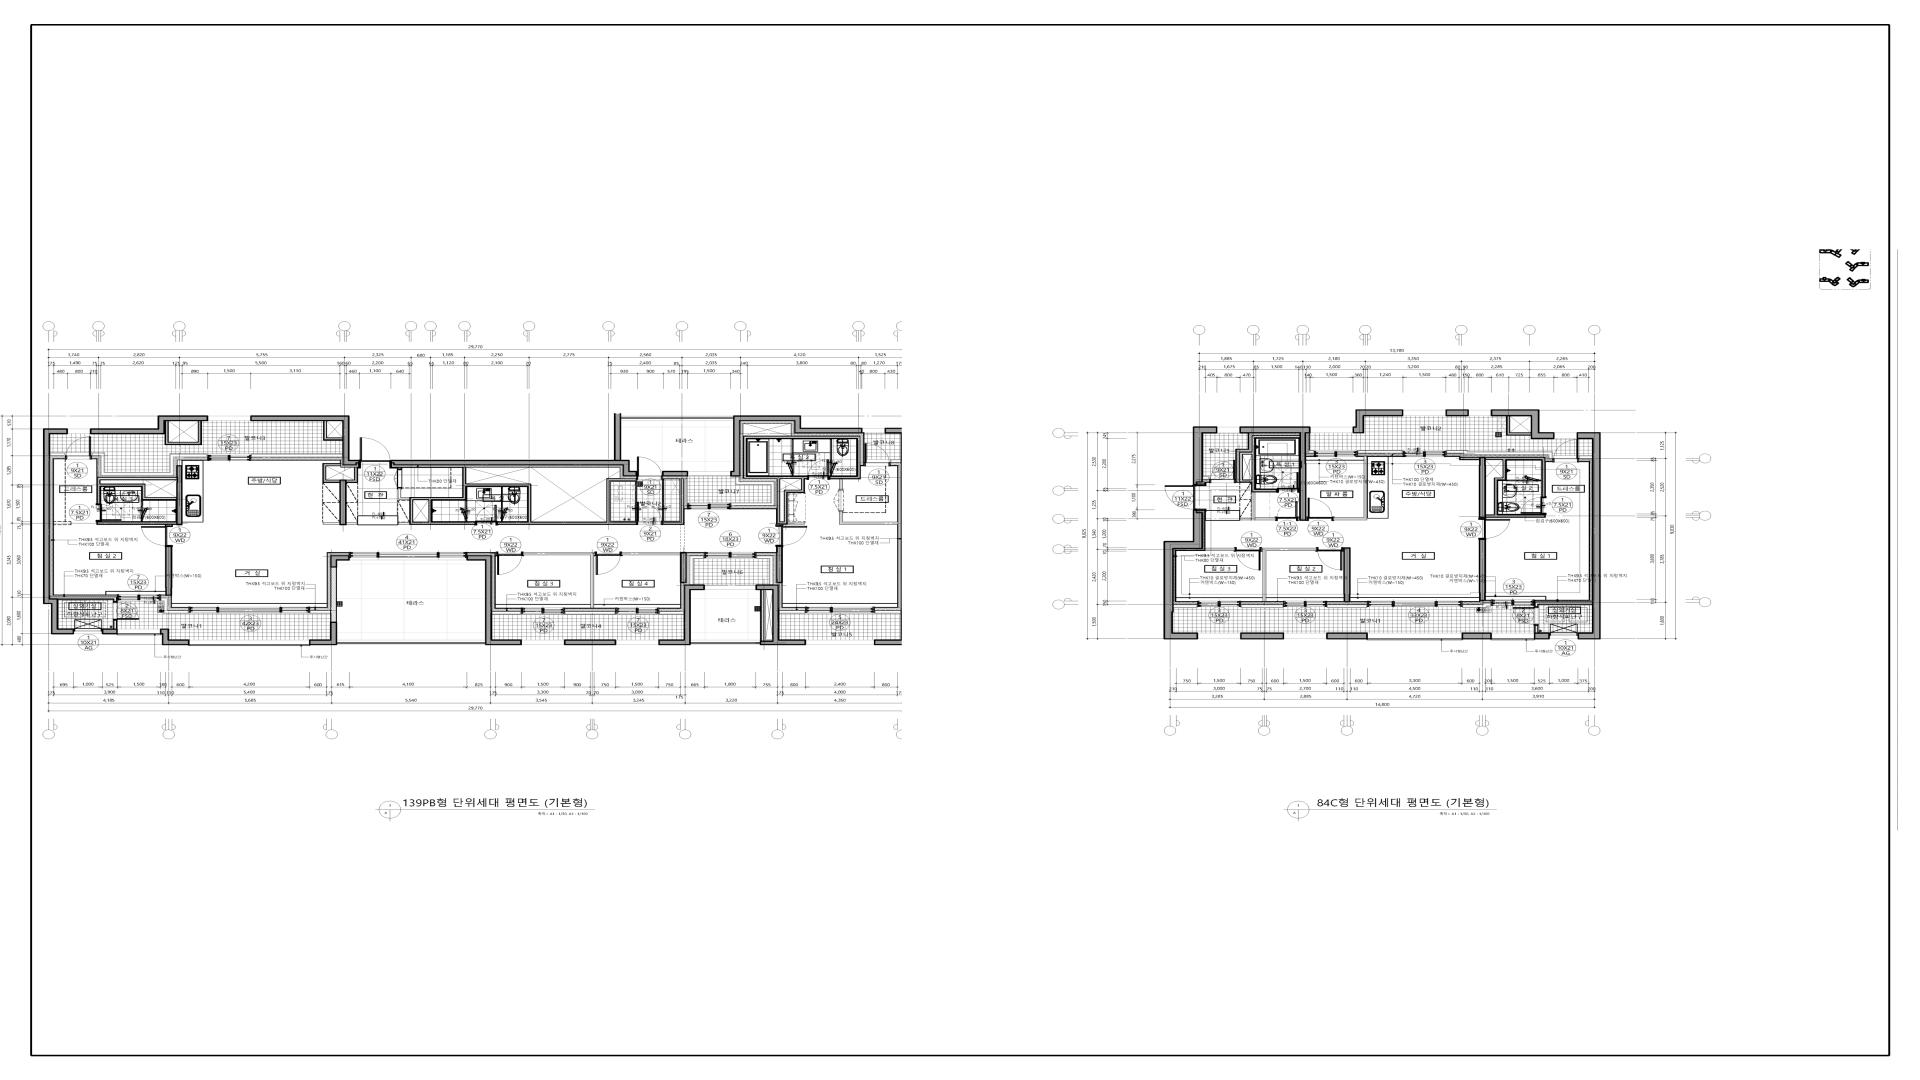door: (1164, 485, 1207, 510), (360, 438, 392, 468), (775, 525, 807, 547), (141, 525, 173, 547), (1478, 518, 1510, 539), (1316, 547, 1344, 571), (593, 551, 621, 575), (496, 551, 524, 575), (1307, 497, 1333, 521), (1236, 547, 1262, 571), (864, 443, 890, 467), (1553, 439, 1578, 463), (66, 436, 91, 460), (637, 456, 662, 480), (637, 501, 662, 525), (1209, 460, 1236, 483), (1513, 607, 1539, 625), (113, 601, 140, 620), (1276, 472, 1299, 493), (807, 459, 829, 480), (475, 505, 497, 526), (1520, 497, 1547, 514), (1276, 501, 1299, 521), (96, 504, 121, 521), (833, 489, 844, 512)
wall: (392, 414, 637, 476), (398, 467, 637, 525), (744, 435, 861, 525), (731, 415, 862, 476), (874, 427, 909, 645), (1240, 426, 1311, 521), (44, 429, 74, 634), (251, 415, 359, 465), (1163, 510, 1203, 640), (1240, 435, 1299, 521), (467, 555, 522, 645), (1577, 433, 1601, 640), (524, 553, 593, 608), (1486, 458, 1545, 518), (756, 584, 806, 645), (1262, 549, 1316, 601), (91, 452, 207, 476), (659, 584, 704, 645), (1333, 456, 1367, 521), (90, 415, 208, 434), (96, 477, 177, 504), (1491, 410, 1555, 439), (310, 567, 338, 622), (1193, 426, 1217, 485), (731, 477, 775, 506), (1353, 409, 1403, 434), (1447, 450, 1553, 459), (663, 479, 684, 525), (165, 421, 202, 446), (839, 512, 898, 525), (338, 640, 485, 645), (309, 622, 338, 645), (757, 555, 774, 584), (1506, 417, 1531, 435), (161, 629, 190, 645), (621, 417, 733, 421), (161, 597, 189, 613), (690, 555, 704, 584), (1480, 539, 1486, 601), (1480, 458, 1486, 518), (323, 421, 343, 440), (165, 547, 173, 596), (1344, 547, 1350, 603), (251, 454, 343, 458), (691, 640, 760, 645), (339, 480, 347, 525), (50, 596, 117, 601), (323, 463, 340, 483), (96, 521, 177, 525), (177, 465, 182, 525), (1535, 601, 1592, 607), (1240, 633, 1284, 640), (775, 547, 783, 583), (564, 640, 616, 645), (1327, 633, 1367, 640), (760, 591, 765, 641), (679, 551, 687, 583), (330, 555, 349, 567), (1461, 633, 1491, 640), (1445, 409, 1469, 417), (347, 467, 359, 483), (1357, 450, 1403, 454), (1241, 604, 1283, 608), (1327, 604, 1367, 608), (1462, 603, 1491, 608), (621, 553, 679, 555), (662, 471, 688, 476), (564, 612, 616, 615), (1205, 547, 1236, 551), (1534, 633, 1549, 640), (659, 611, 683, 615), (102, 629, 117, 634), (492, 612, 521, 615), (779, 611, 806, 613), (874, 611, 901, 613), (1174, 605, 1197, 608), (50, 452, 65, 456), (1460, 458, 1480, 460), (1578, 455, 1592, 459), (323, 522, 339, 525), (890, 459, 901, 463), (113, 620, 117, 629), (1535, 625, 1539, 633), (347, 522, 357, 525), (177, 460, 182, 465), (1203, 476, 1209, 480), (1309, 450, 1315, 454)
window: (349, 553, 467, 560), (189, 607, 310, 613), (190, 640, 309, 646), (1367, 633, 1461, 641), (1367, 601, 1462, 607), (806, 607, 874, 613), (806, 640, 874, 645), (704, 553, 757, 559), (207, 454, 251, 462), (117, 628, 161, 636), (522, 637, 564, 645), (1491, 633, 1534, 641), (117, 595, 161, 601), (687, 502, 731, 509), (521, 608, 564, 615), (616, 608, 659, 615), (1403, 451, 1447, 458), (1315, 451, 1357, 458), (616, 640, 659, 645), (1197, 601, 1241, 607), (1283, 601, 1327, 607), (1491, 600, 1535, 605), (1311, 427, 1353, 433), (1403, 410, 1445, 415), (1284, 633, 1327, 638), (1199, 633, 1240, 638), (705, 585, 756, 589), (208, 417, 251, 421), (688, 472, 731, 476), (1555, 433, 1577, 439), (1549, 633, 1577, 638), (74, 629, 102, 634), (67, 429, 90, 434), (1217, 427, 1240, 433), (1469, 410, 1490, 415), (862, 429, 885, 433)
